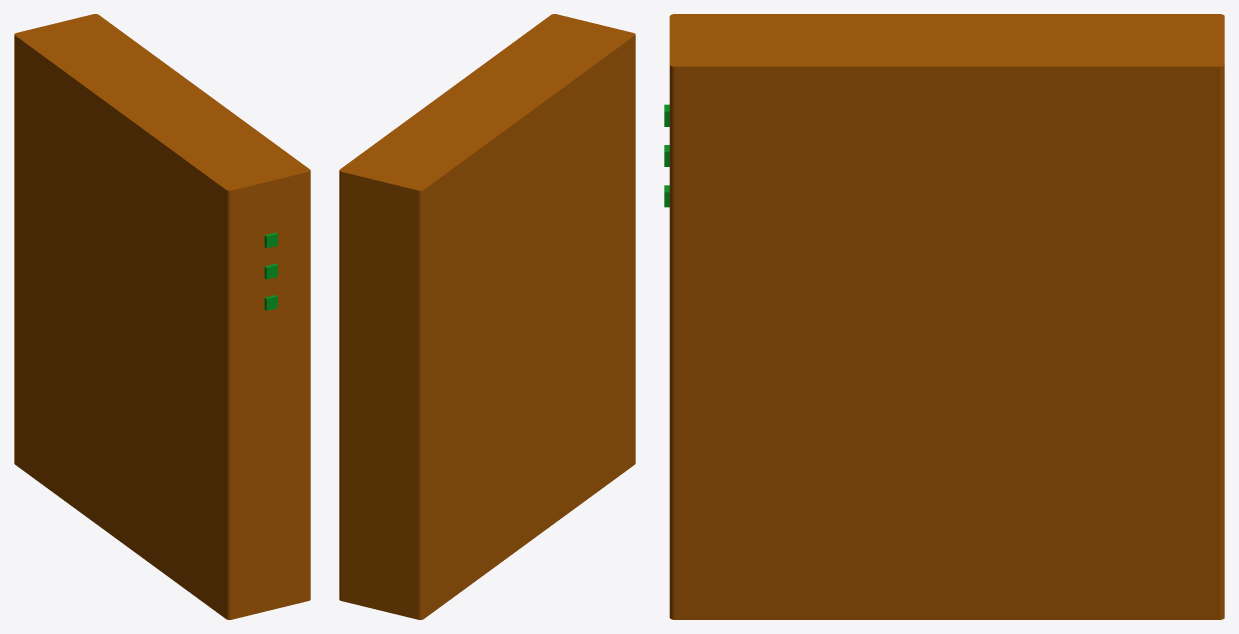
The model's file is relay.glb.
3 renders of one model, left to right at view 1: azimuth 30°, elevation 25°; view 2: azimuth 150°, elevation 25°; view 3: azimuth 270°, elevation 25°, orthographic. The views are drawn at different scales.
Visible parts, largest first — view 1: relay; view 2: relay; view 3: relay.
Part boxes in pixels (box(x1,y1,x2,y2)): relay: box(14, 14, 310, 619); relay: box(339, 14, 635, 619); relay: box(664, 14, 1224, 619).
Size of the model in its own units: 0.0225 by 0.11 by 0.101.
